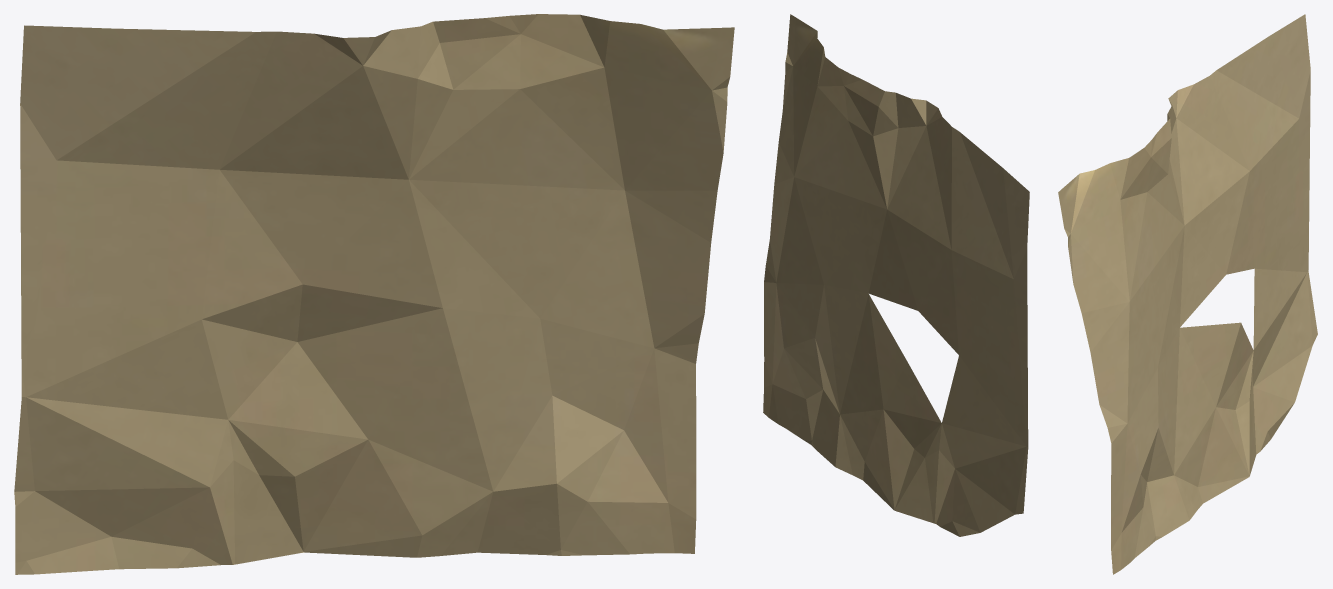
3 views of the same model, side by side, from view 1: azimuth 30°, elevation 25°; view 2: azimuth 150°, elevation 25°; view 3: azimuth 270°, elevation 25° (orthographic). The views are drawn at different scales.
Bounding box in the file's own units: 0.8374 × 0.8374 × 0.5172.
Materials: 3 (3 with a texture image).
